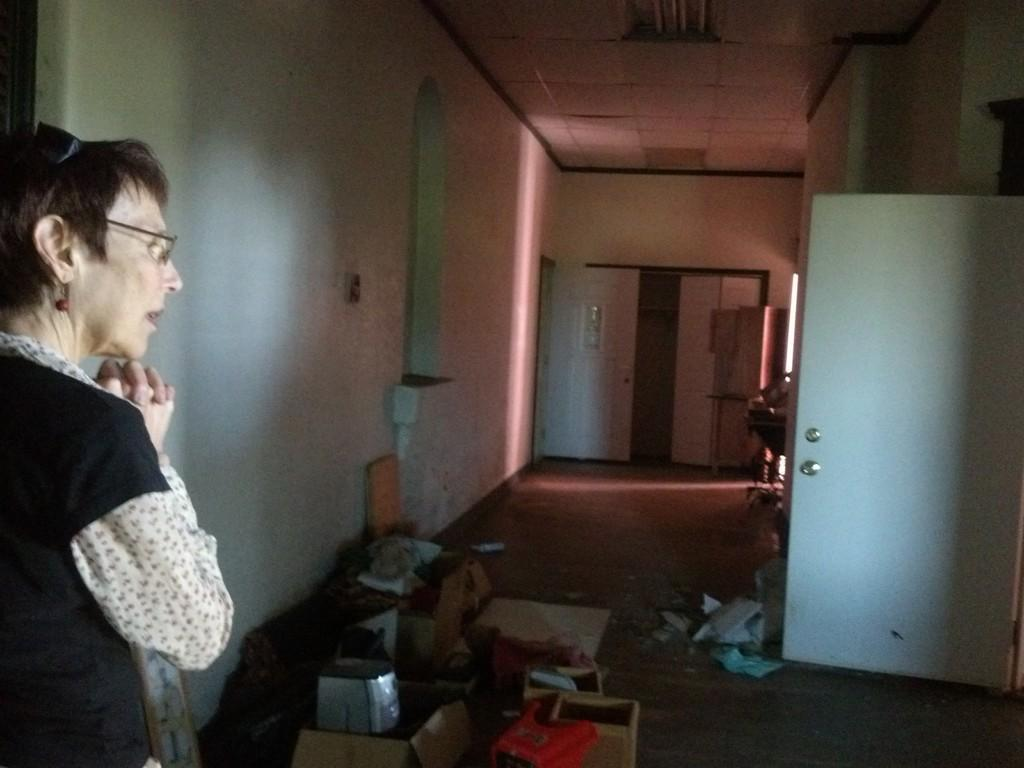door: (798, 212, 1010, 659), (536, 268, 638, 466)
handle: (796, 456, 818, 486)
